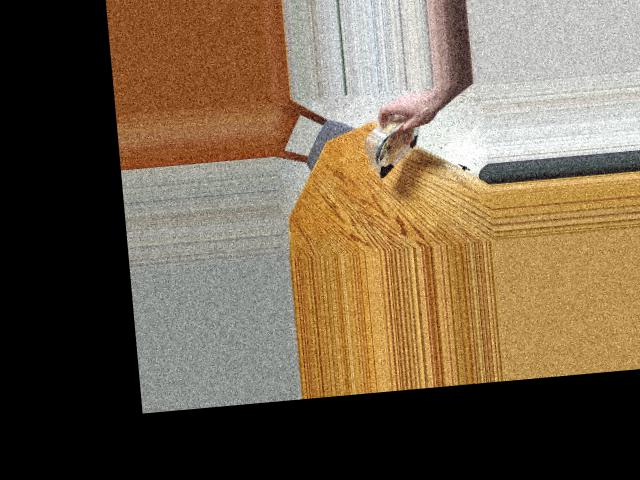cheese: (353, 114, 440, 179)
